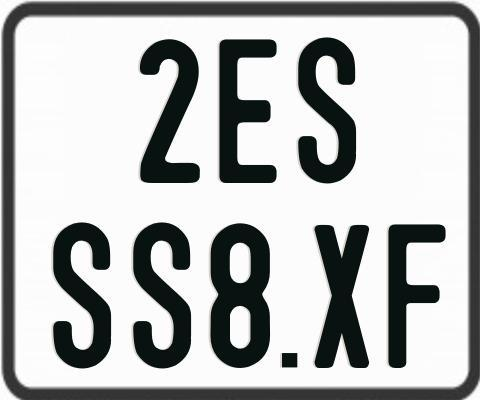2: (140, 38, 202, 188)
8: (209, 223, 272, 370)
E: (217, 38, 277, 188)
F: (388, 224, 447, 369)
S: (295, 37, 358, 185), (53, 222, 111, 374), (133, 222, 192, 370)
X: (313, 223, 371, 366)
